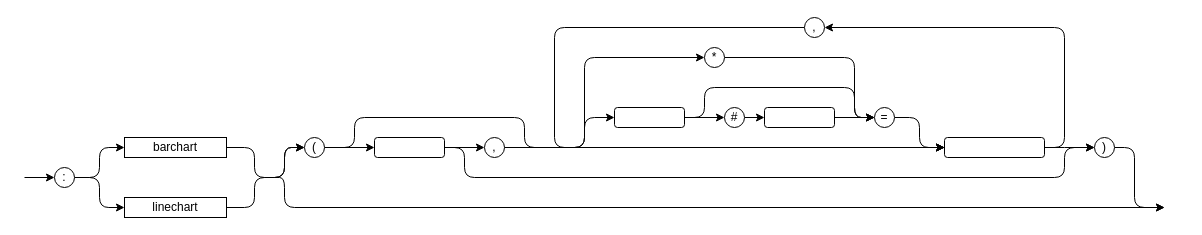
Some shapes in this 1202 by 235 pixel diagram are drawn without their labels. The shapes that lost their labels are listed below. From the top down, each one's box as (x1, y1, x2, y2) in pixels, then its label:
(614, 106, 684, 128): label
(764, 106, 834, 128): color
(374, 136, 444, 158): scale
(944, 136, 1044, 158): expression
